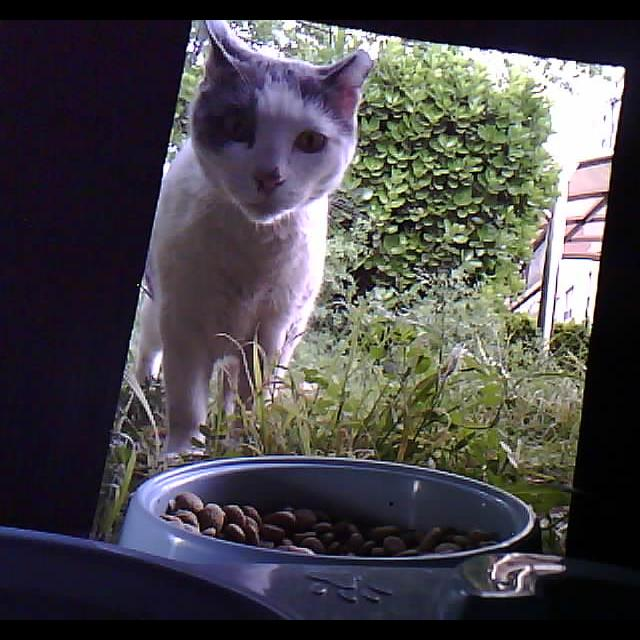animals: (183, 20, 378, 235)
